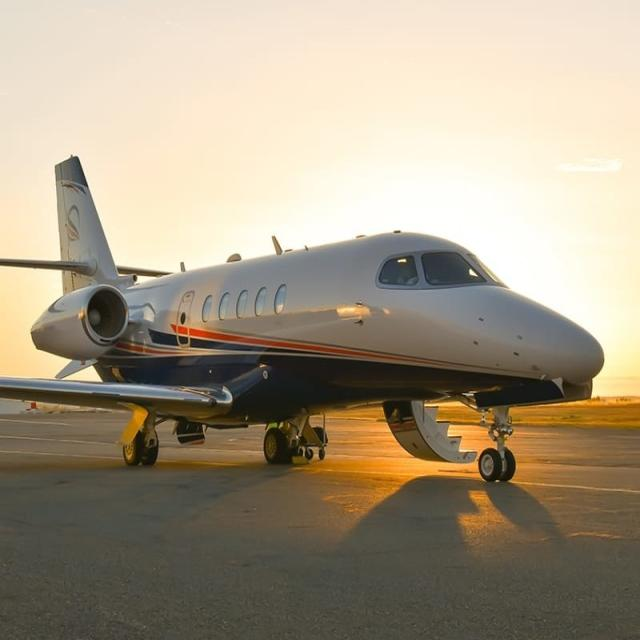jet: (2, 128, 640, 575)
